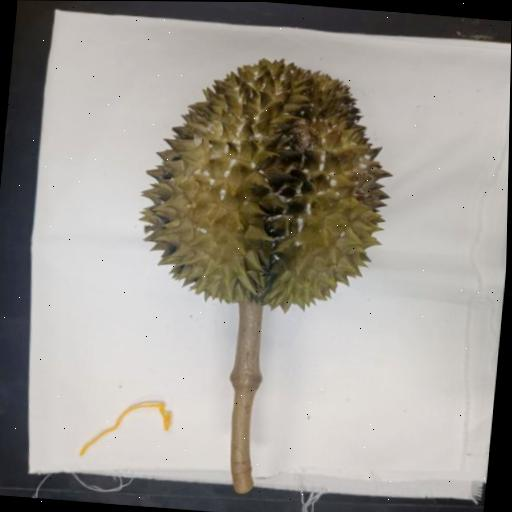rot: (100, 22, 440, 360)
